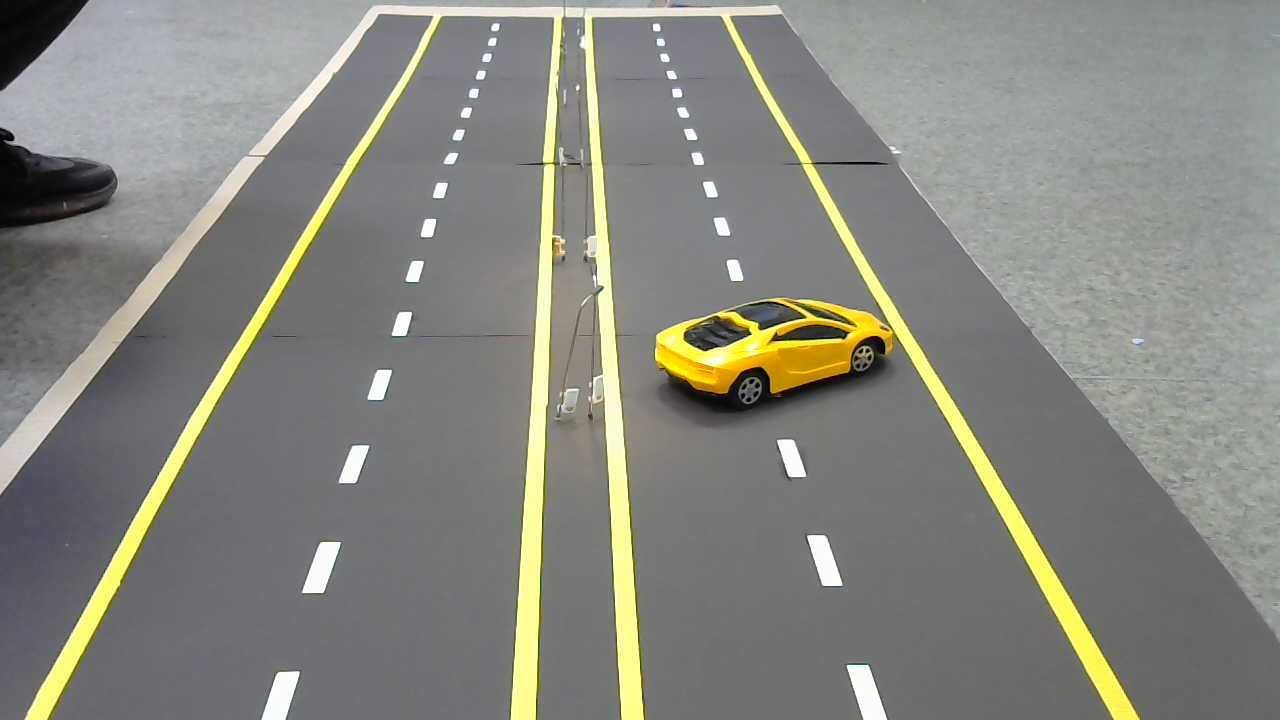overturn_car: (640, 291, 906, 408)
